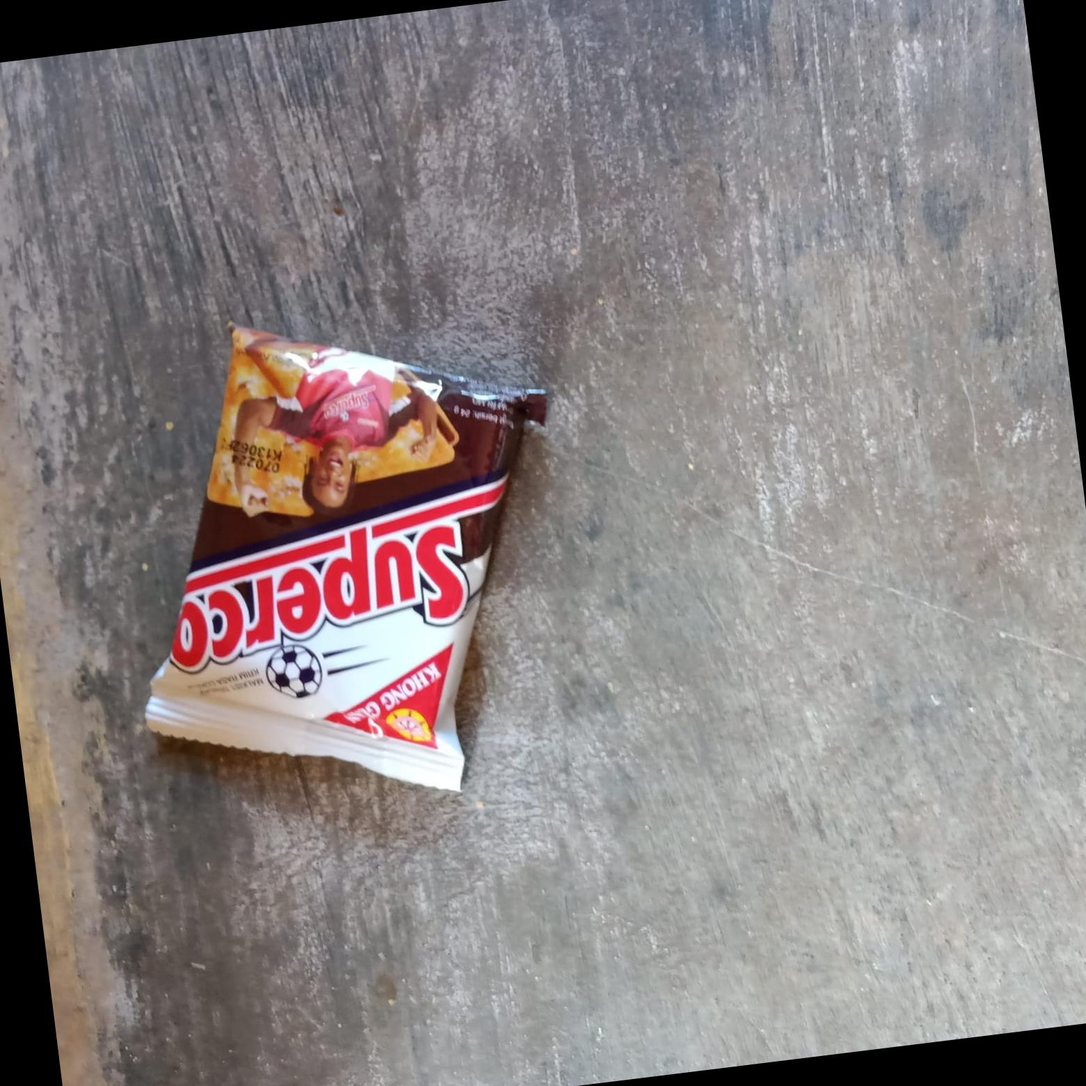Plastik: (98, 289, 598, 827)
